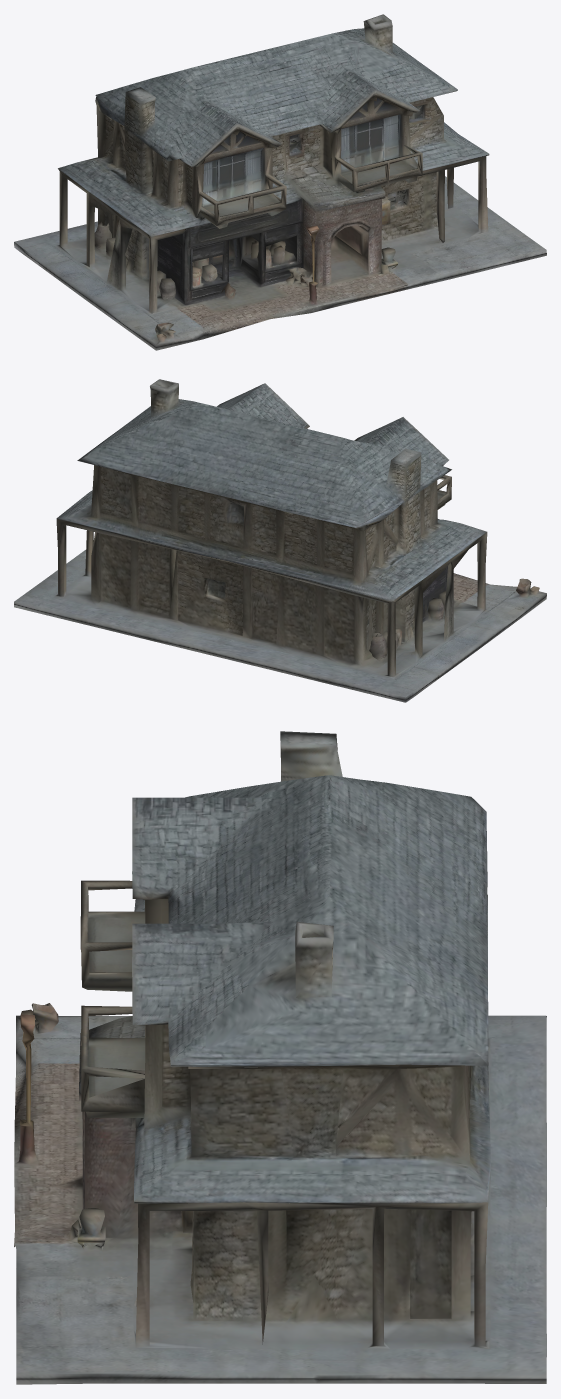
The model's file is roadsidebuilding3.glb.
3 views of the same model, one above another, from view 1: azimuth 30°, elevation 25°; view 2: azimuth 150°, elevation 25°; view 3: azimuth 270°, elevation 25° (orthographic). The views are drawn at different scales.
Parts seen in each view (by area): view 1: tripo_node_e47d9e6a-287e-4311-bcb3-e431a72bcd11; view 2: tripo_node_e47d9e6a-287e-4311-bcb3-e431a72bcd11; view 3: tripo_node_e47d9e6a-287e-4311-bcb3-e431a72bcd11.
Boxes of the visible parts, x1,y1,x2,y2 form: tripo_node_e47d9e6a-287e-4311-bcb3-e431a72bcd11: (14,14,546,350); tripo_node_e47d9e6a-287e-4311-bcb3-e431a72bcd11: (14,379,546,702); tripo_node_e47d9e6a-287e-4311-bcb3-e431a72bcd11: (14,731,546,1384).
Size of the model in its own units: 1 by 0.4863 by 0.6286.
Materials: 1 (1 with a texture image).
